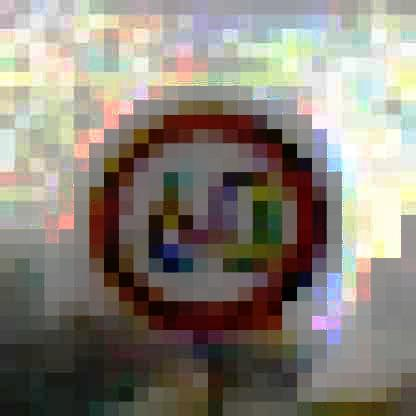Speed Limit -60-: (70, 90, 345, 340)
